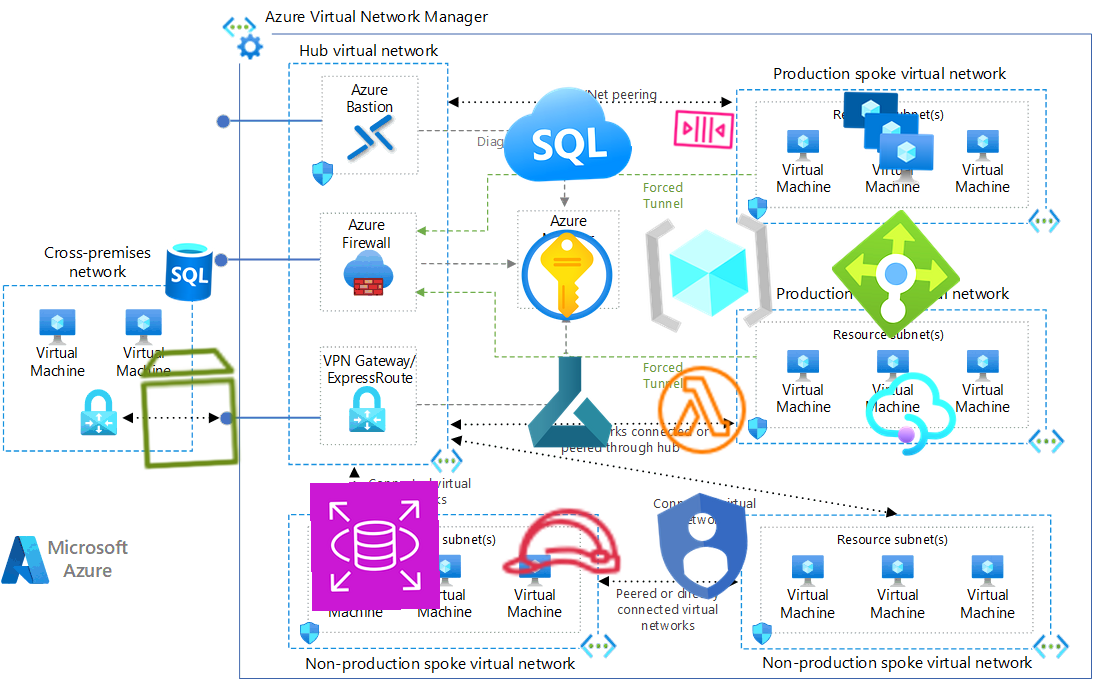aws_amazon_rds: (309, 480, 441, 612)
aws_elastic_block_store_volume: (122, 340, 258, 476)
aws_identity_access_management_role: (495, 476, 629, 610)
aws_lambda_lambda_function: (653, 361, 751, 459)
aws_simple_queue_service_queue: (670, 95, 738, 163)
azure_api_management_services: (860, 363, 962, 465)
azure_key_vaults: (518, 226, 616, 324)
azure_load_balancers: (826, 204, 966, 344)
azure_machine_learning: (521, 353, 619, 451)
azure_resource_groups: (640, 204, 778, 342)
azure_sql: (500, 69, 634, 203)
azure_sql_database: (155, 237, 223, 305)
azure_vm_scale_sets: (837, 86, 937, 186)
gcp_identity_and_access_management: (634, 476, 774, 616)
